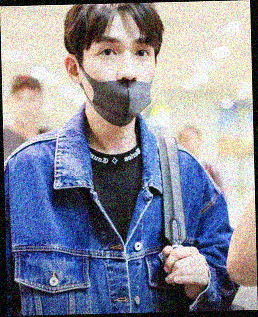mask_weared_incorrect: (80, 32, 158, 128)
without_mask: (12, 92, 41, 125)
